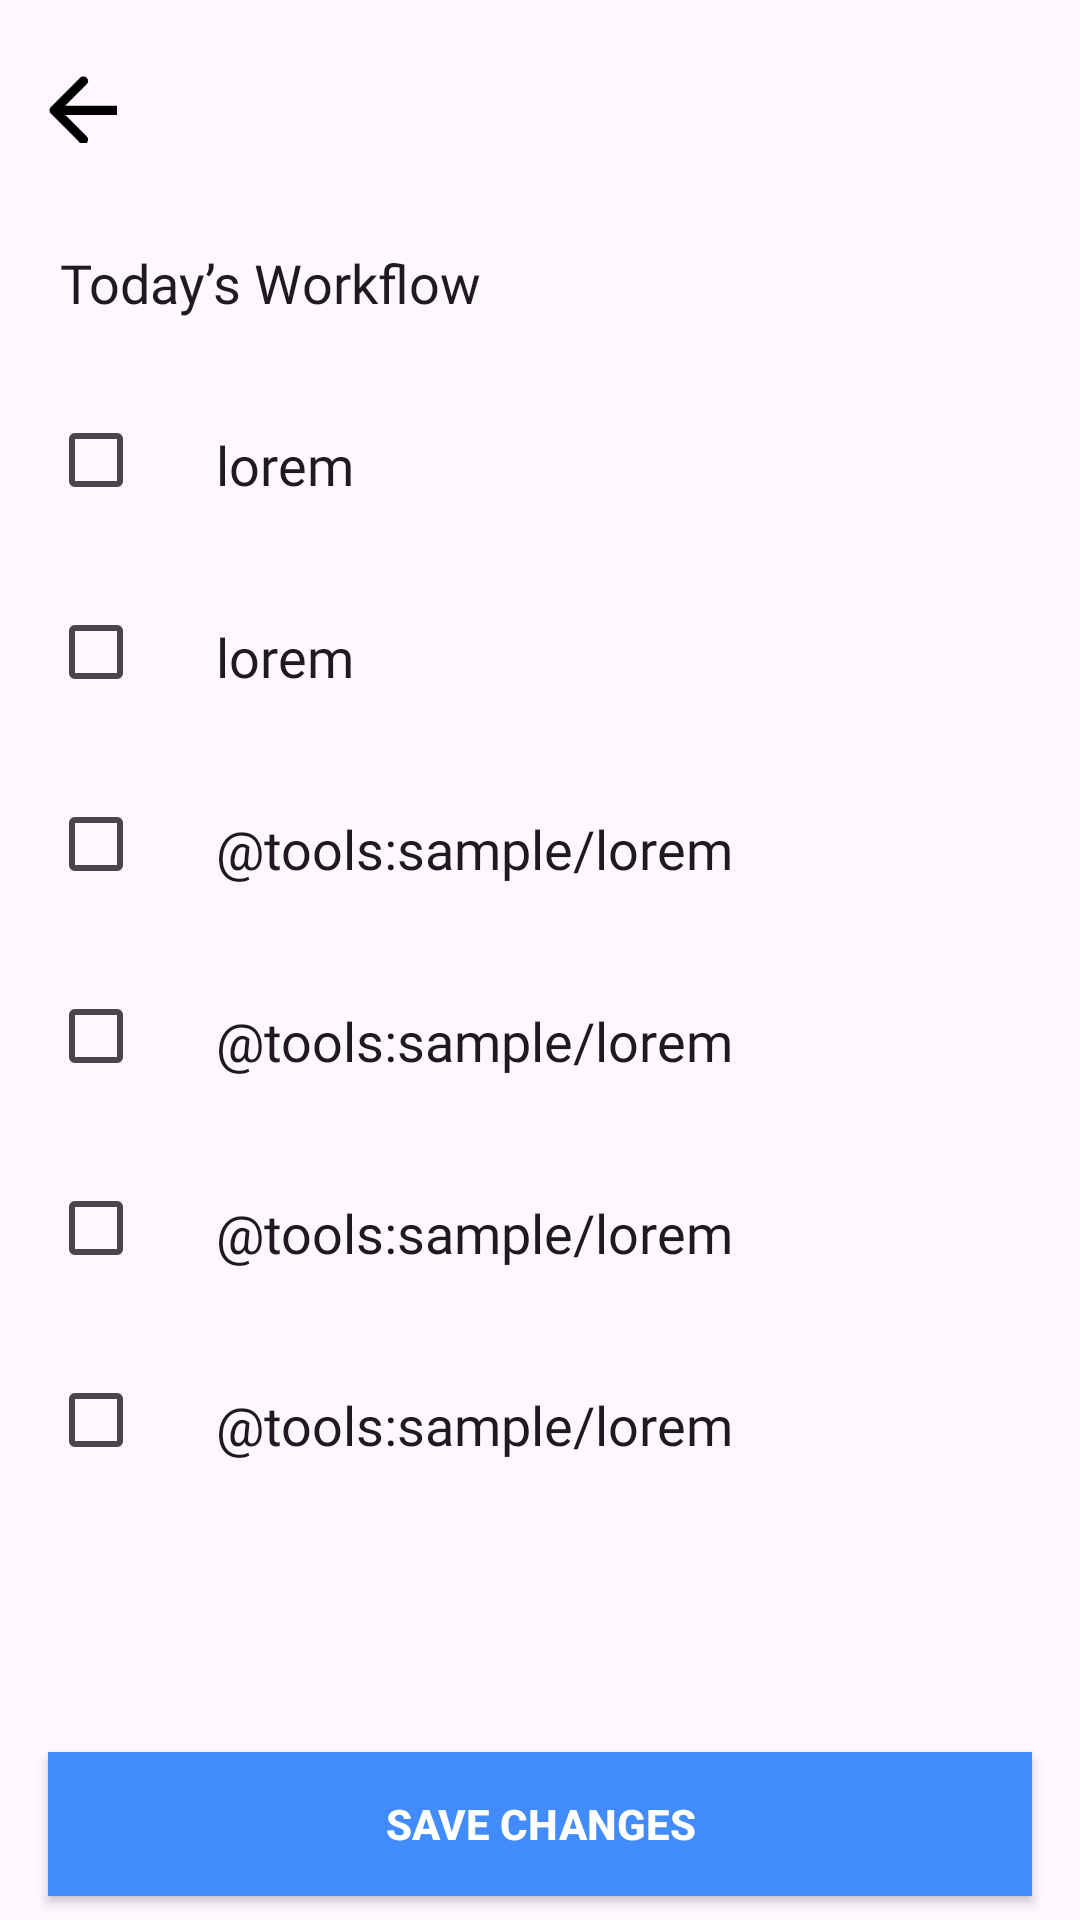

Named icons in this screenshot (1080 × 1920) and their centers, (x=x, y=y):
back: (x=83, y=109)
